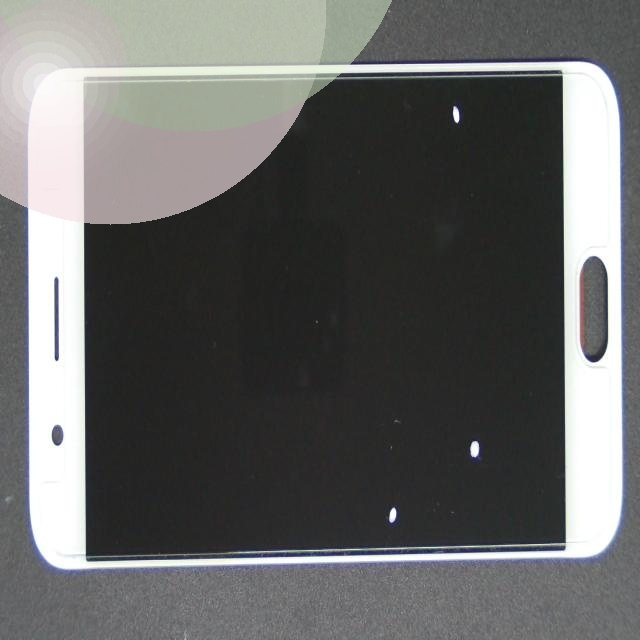stain: (259, 206, 640, 640), (211, 213, 574, 640), (234, 14, 640, 148)
